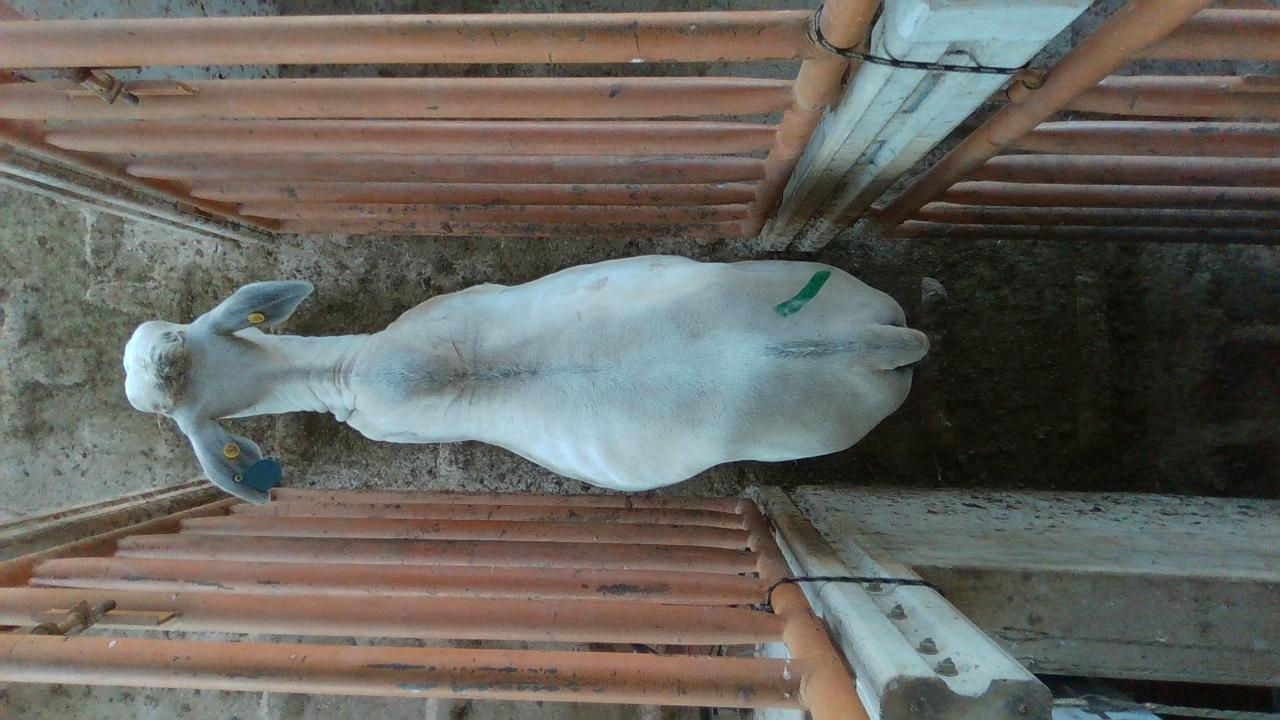cattle: (121, 252, 930, 504)
